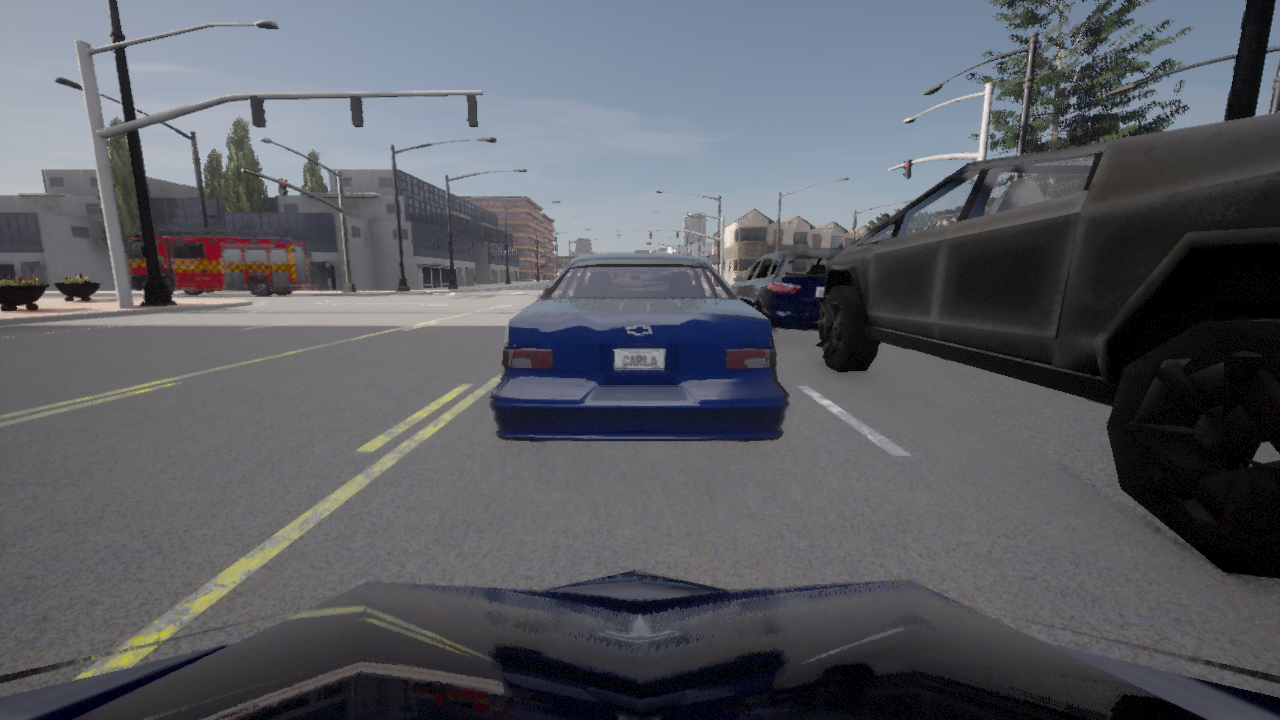cyclist: (814, 113, 1279, 577), (0, 569, 1279, 719), (489, 253, 788, 441), (125, 229, 315, 296), (732, 251, 840, 329)
pedestrian: (159, 257, 173, 283)
